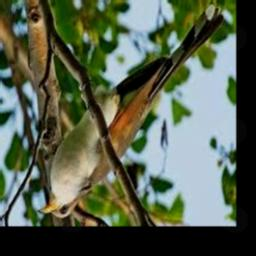Cuckoo: (38, 6, 224, 218)
